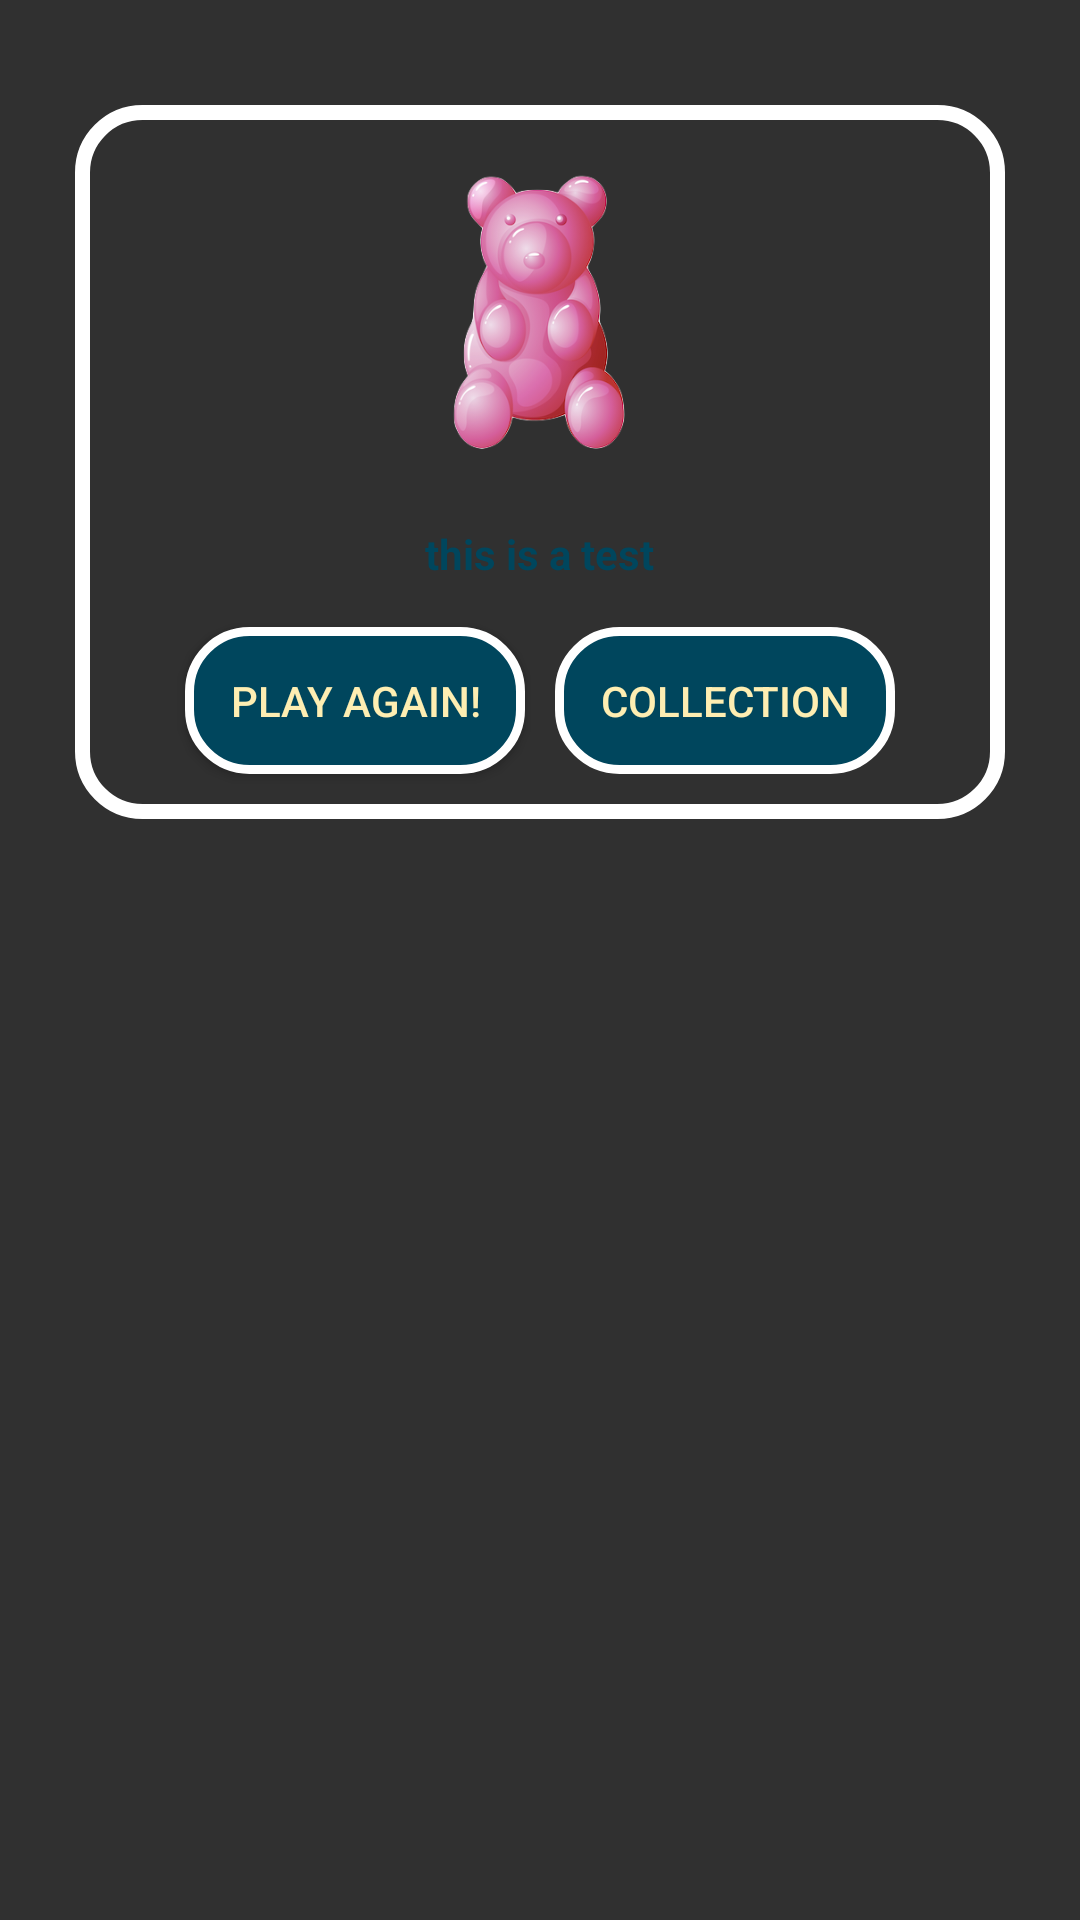

Locate icon controls on the screen. Image size 1080*1920, boxes as region(x1, y1, x2, y2).
Image of the catch: region(454, 176, 625, 449)
